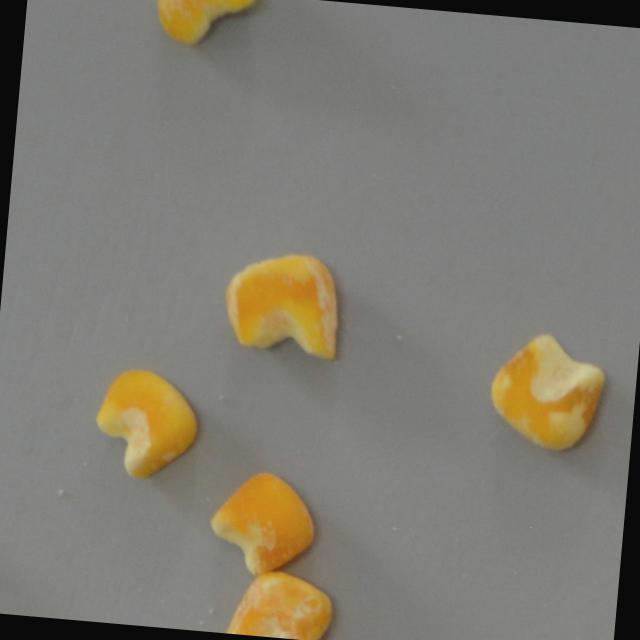dañado: (480, 325, 613, 458), (202, 464, 325, 581)
pelicula: (215, 240, 354, 363), (86, 356, 208, 487), (213, 564, 340, 640), (147, 0, 259, 51)
